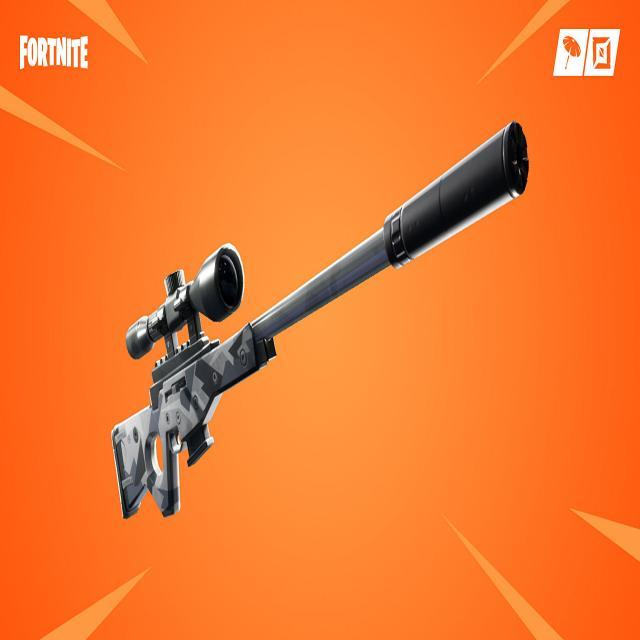scope: (116, 238, 245, 361)
sniper rifle: (107, 114, 536, 519)
